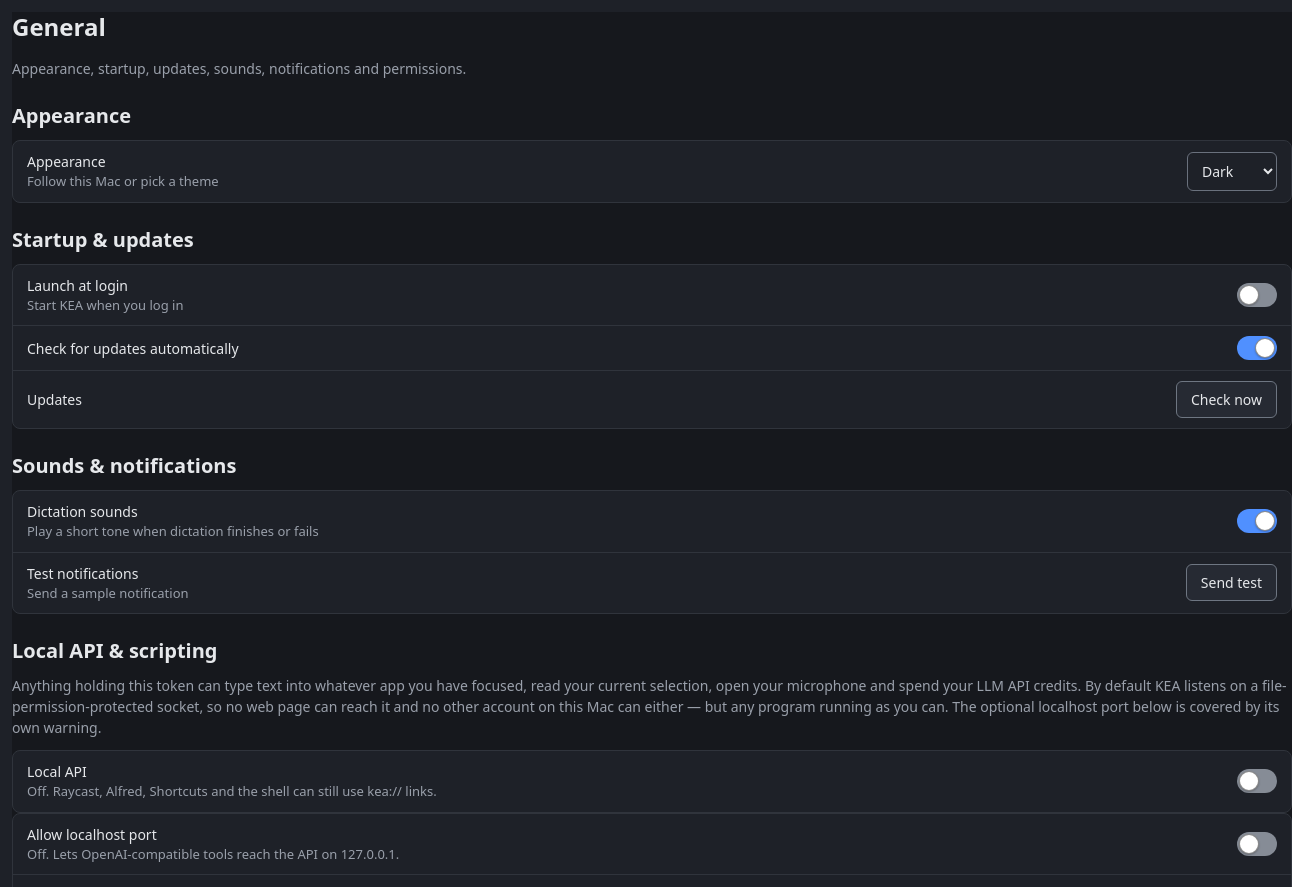
Test: GeneralPage › toggles launch at login and persists it
Click the switch named "Launch KEA at login" at x=1257, y=295, box [1237,283,1277,307]
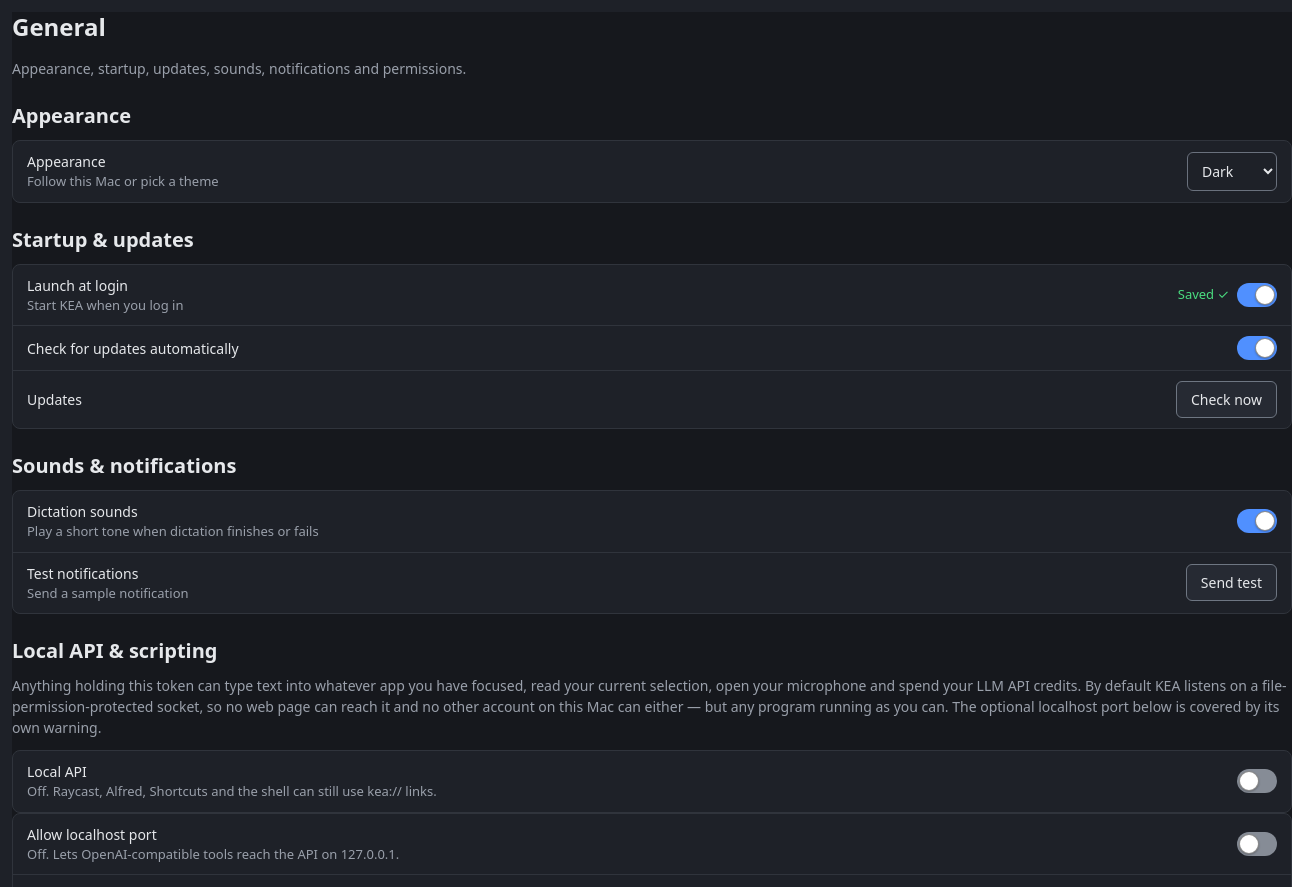
Expected: the text "Saved ✓" is shown, [1178,285,1229,305]
